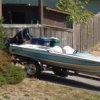Boat: (7, 25, 99, 80)
